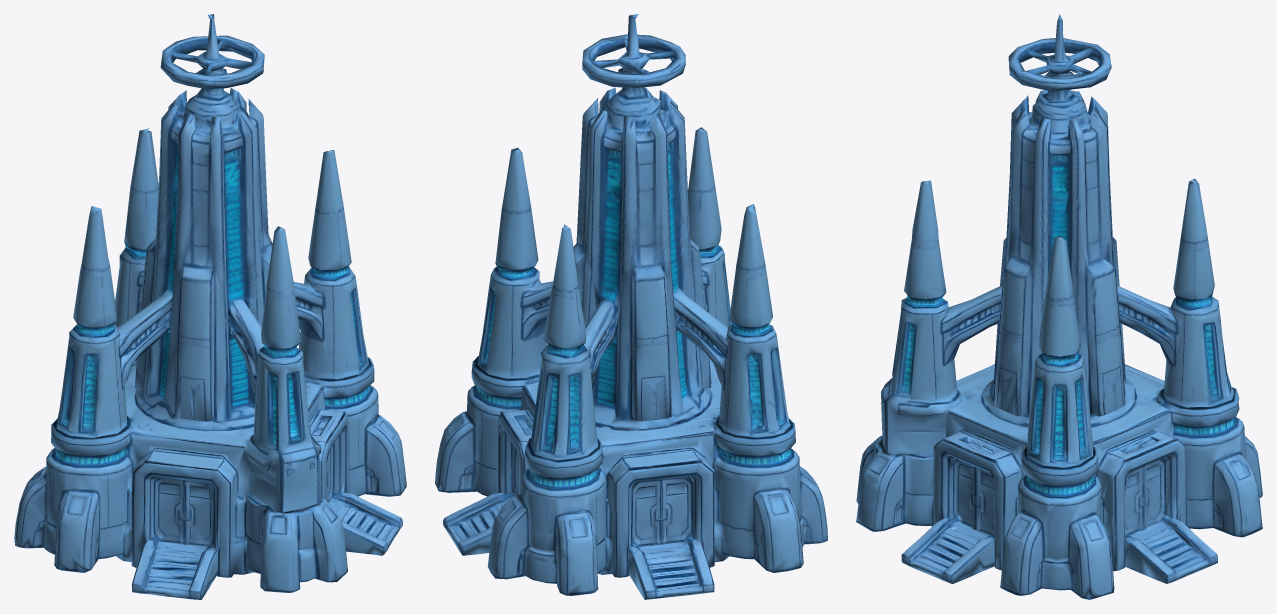
File: building-control-spire.glb
3 renders of one model, left to right at view 1: azimuth 30°, elevation 25°; view 2: azimuth 150°, elevation 25°; view 3: azimuth 270°, elevation 25°, orthographic.
Parts seen in each view (by area): view 1: tripo_node_57082c6e-8ece-4181-ad58-11736baec816; view 2: tripo_node_57082c6e-8ece-4181-ad58-11736baec816; view 3: tripo_node_57082c6e-8ece-4181-ad58-11736baec816.
Part boxes in pixels (box(x1,y1,x2,y2)): tripo_node_57082c6e-8ece-4181-ad58-11736baec816: box(14, 14, 406, 599); tripo_node_57082c6e-8ece-4181-ad58-11736baec816: box(435, 14, 827, 599); tripo_node_57082c6e-8ece-4181-ad58-11736baec816: box(856, 14, 1262, 599).
Size of the model in its own units: 0.7349 by 0.9756 by 0.7159.
Materials: 1 (1 with a texture image).
